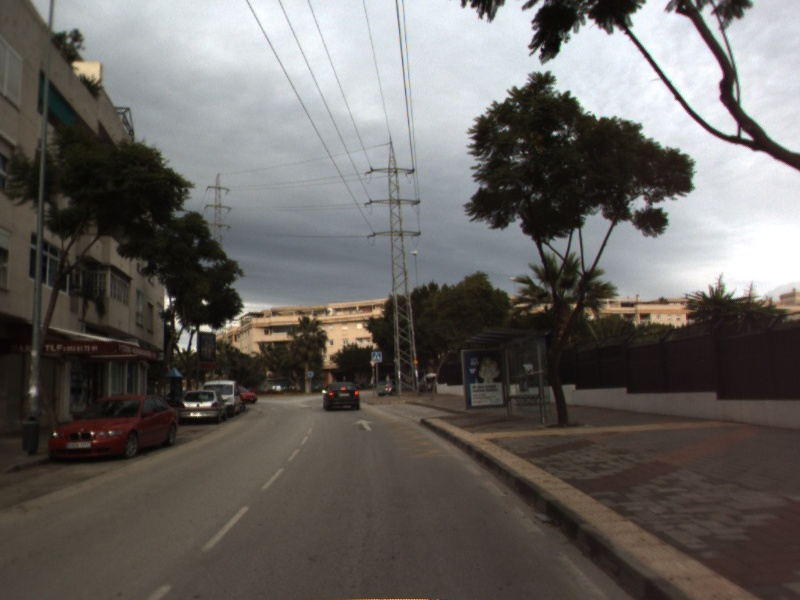STRAIGHT: (352, 417, 376, 433)
